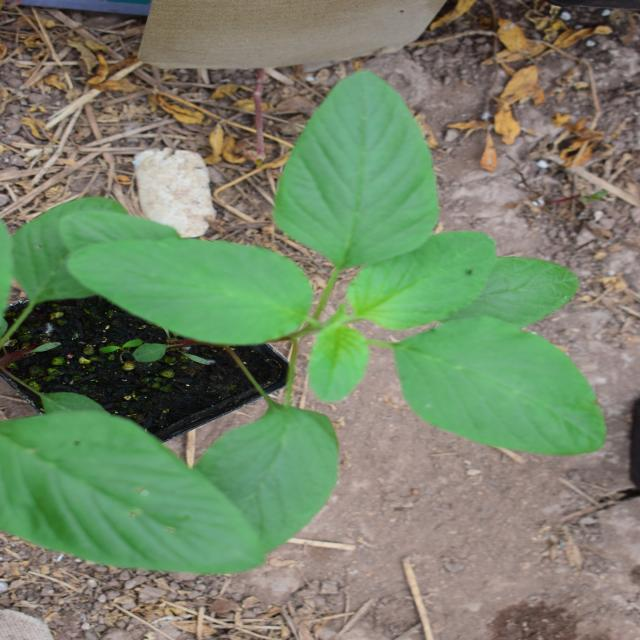pigweed: (82, 29, 498, 526)
